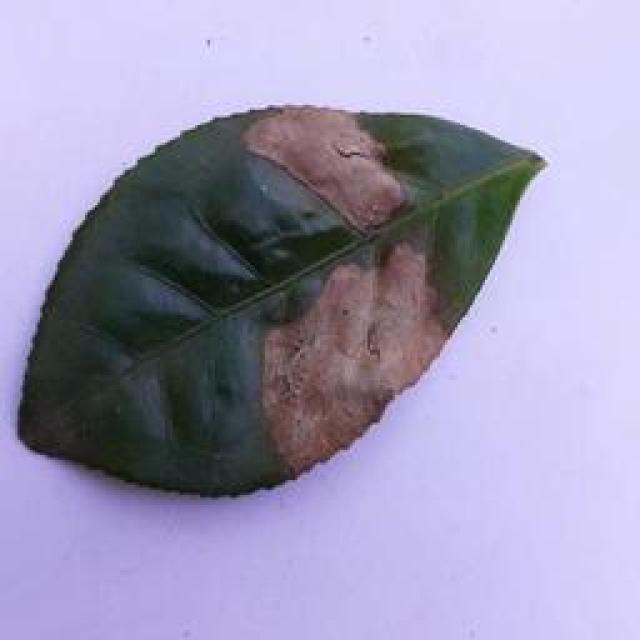Gray Blight: (20, 101, 542, 496)
